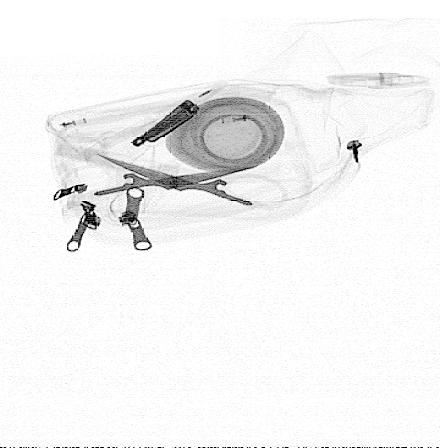Scissors: (58, 152, 292, 218)
